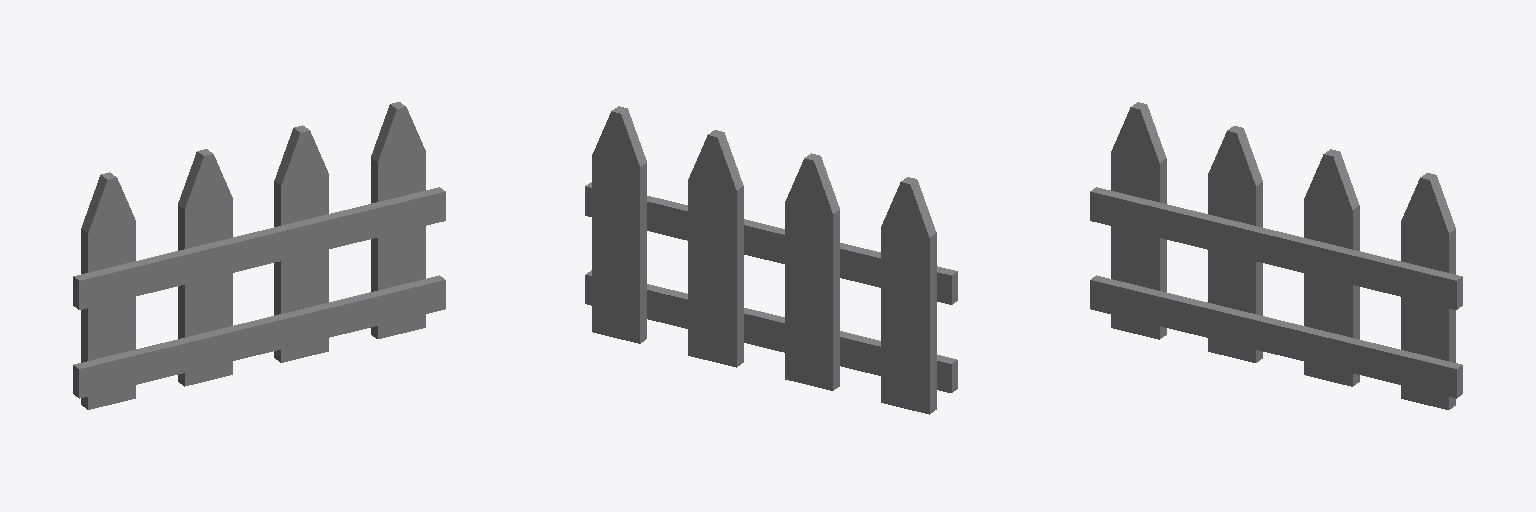
The model's file is fence.obj.
3 views of the same model, side by side, from view 1: azimuth 30°, elevation 25°; view 2: azimuth 150°, elevation 25°; view 3: azimuth 330°, elevation 25° (orthographic).
Visible parts, largest first — view 1: default; view 2: default; view 3: default.
Part boxes in pixels (left/top/right/bottom): default: left=73, top=102, right=445, bottom=409; default: left=585, top=106, right=957, bottom=414; default: left=1090, top=102, right=1462, bottom=409.
Bounding box in the file's own units: 4.34 × 2.55 × 0.2703.